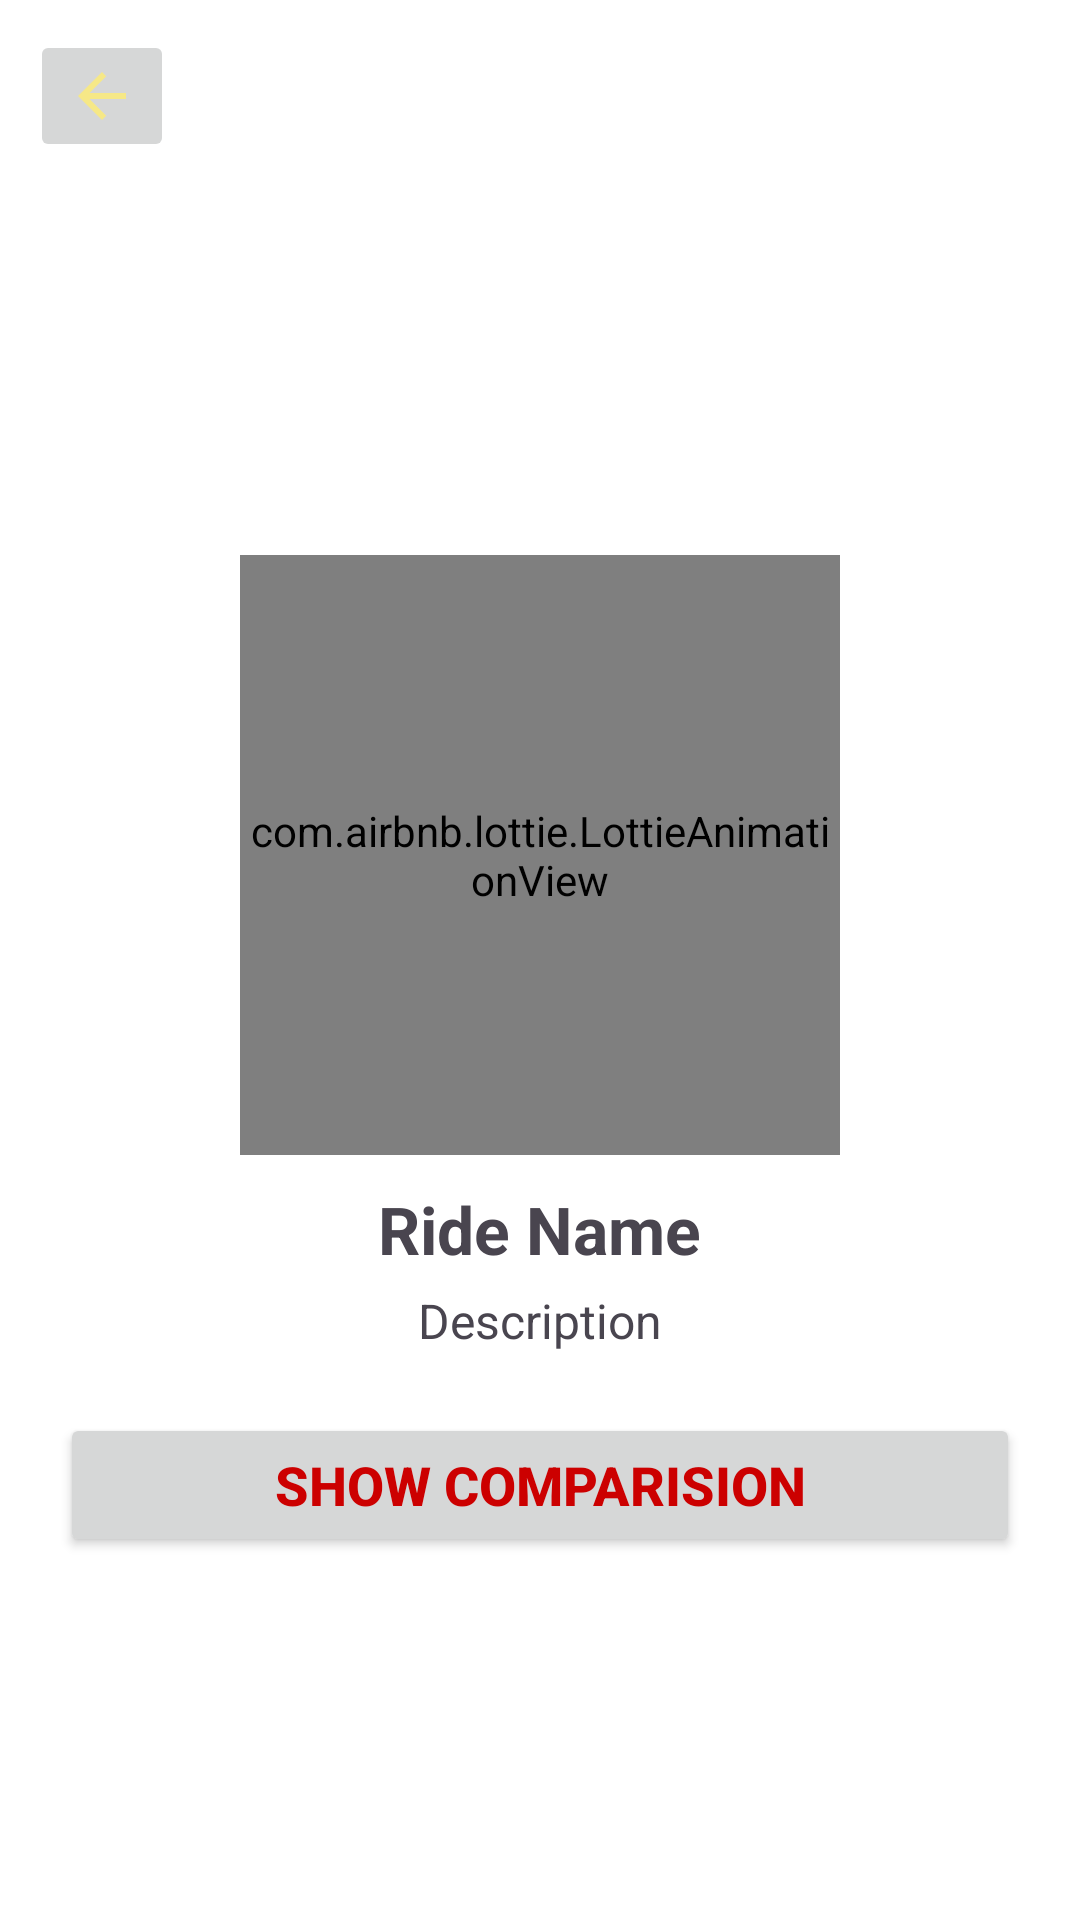

Icons on this 1080x1920 Android screen, each with the point to tap as [x,y]:
arrow back: [102,96]
